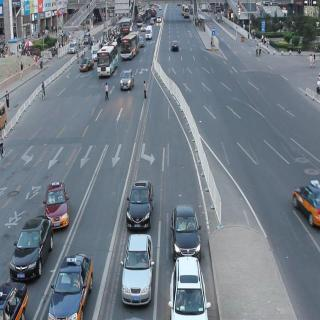BigCar: (98, 41, 119, 79), (119, 31, 140, 62)
Car: (48, 250, 91, 320), (10, 215, 51, 277), (169, 256, 208, 320), (119, 235, 154, 305), (168, 203, 202, 257), (291, 170, 320, 230), (124, 178, 155, 229), (0, 277, 32, 319), (41, 184, 69, 225), (121, 70, 132, 92), (81, 58, 94, 74), (83, 30, 92, 45), (171, 38, 180, 52), (68, 41, 78, 53), (145, 26, 153, 40)
